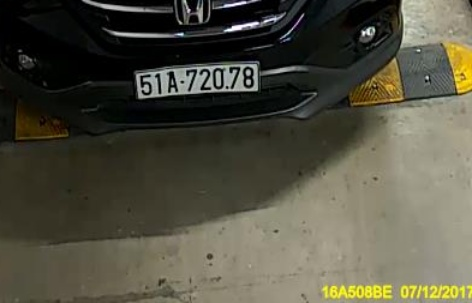plate: (120, 57, 270, 101)
